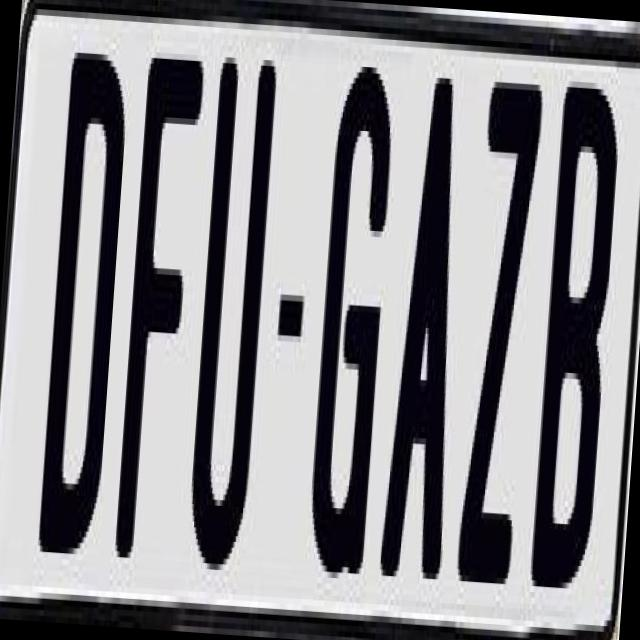A: (374, 76, 474, 596)
B: (530, 75, 632, 584)
D: (32, 51, 128, 566)
F: (110, 57, 200, 566)
G: (304, 59, 399, 592)
U: (182, 50, 278, 565)
Z: (456, 70, 554, 574)
